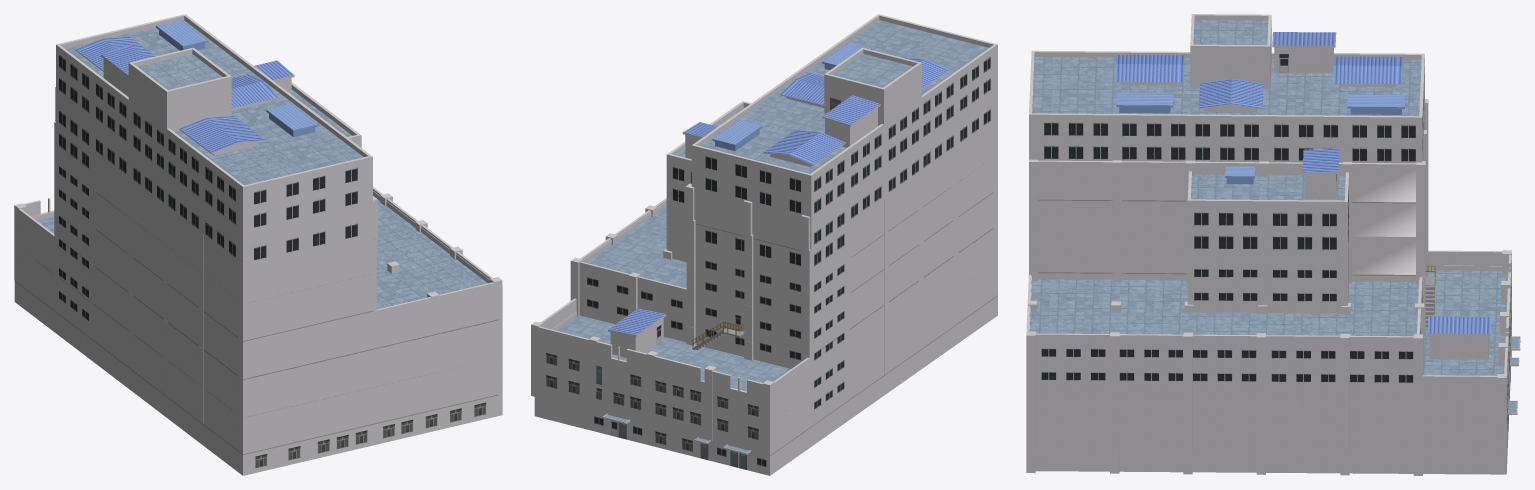
The model's file is one.glb.
3 views of the same model, side by side, from view 1: azimuth 30°, elevation 25°; view 2: azimuth 150°, elevation 25°; view 3: azimuth 270°, elevation 25° (orthographic). The views are drawn at different scales.
Visible parts, largest first — view 1: 53.001, 53F2, 53F1, 53F3, 53F4, 53F5; view 2: 53.001, 53F2, 53F1, 53F3, 53F4, 53F5, 53F6; view 3: 53.001, 53F6, 53F4, 53F5, 53F2, 53F3, 53F1.
Boxes of the visible parts, bbox=[...] form: 53.001: bbox=[14, 14, 502, 475]; 53F2: bbox=[14, 198, 498, 417]; 53F1: bbox=[14, 243, 498, 454]; 53F3: bbox=[54, 187, 502, 379]; 53F4: bbox=[54, 160, 376, 341]; 53F5: bbox=[54, 121, 376, 303]; 53.001: bbox=[534, 14, 997, 475]; 53F2: bbox=[531, 225, 997, 419]; 53F1: bbox=[531, 259, 997, 455]; 53F3: bbox=[570, 189, 997, 356]; 53F4: bbox=[672, 153, 997, 321]; 53F5: bbox=[686, 118, 997, 285]; 53F6: bbox=[685, 183, 810, 253]; 53.001: bbox=[1026, 14, 1520, 475]; 53F6: bbox=[1029, 99, 1428, 203]; 53F4: bbox=[1029, 174, 1428, 293]; 53F5: bbox=[1029, 140, 1428, 238]; 53F2: bbox=[1035, 250, 1511, 417]; 53F3: bbox=[1026, 213, 1428, 375]; 53F1: bbox=[1035, 291, 1511, 455].
Size of the model in its own units: 29.69 by 35.05 by 47.23.
Materials: 26 (26 with a texture image).
